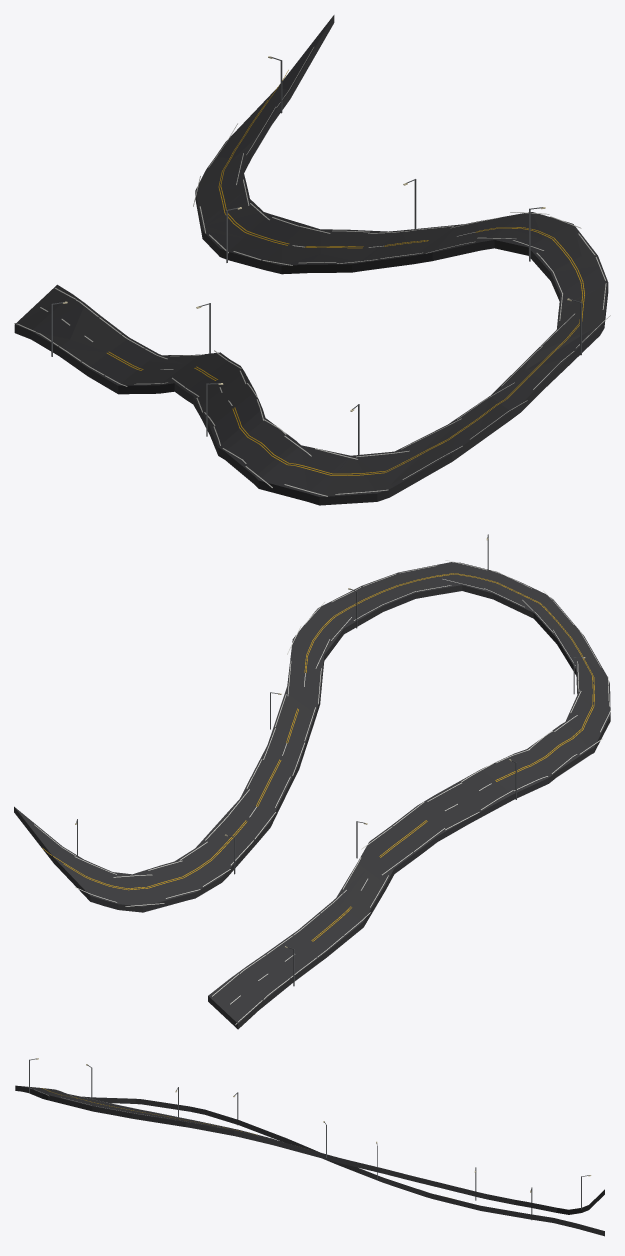
The picture shows the model from 3 angles, top to bottom: view 1: azimuth 30°, elevation 25°; view 2: azimuth 150°, elevation 25°; view 3: azimuth 270°, elevation 25°; orthographic projection. The views are drawn at different scales.
Bounding box in the file's own units: 67.32 × 48.84 × 124.
